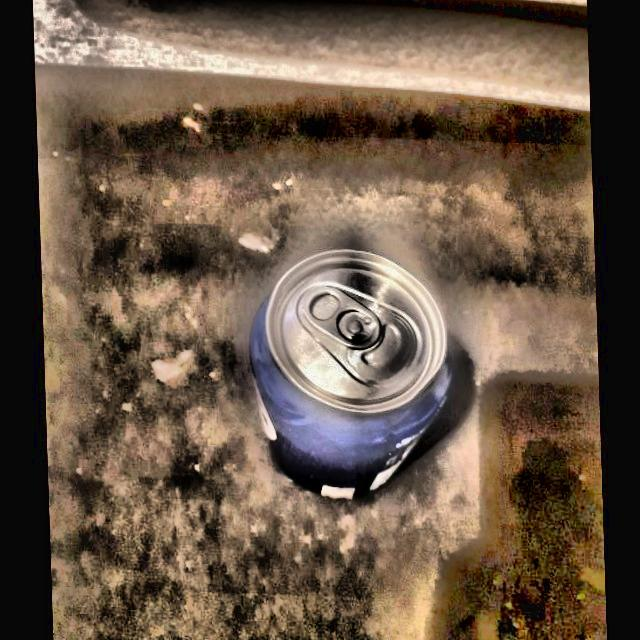pepsi-can: (245, 246, 451, 504)
